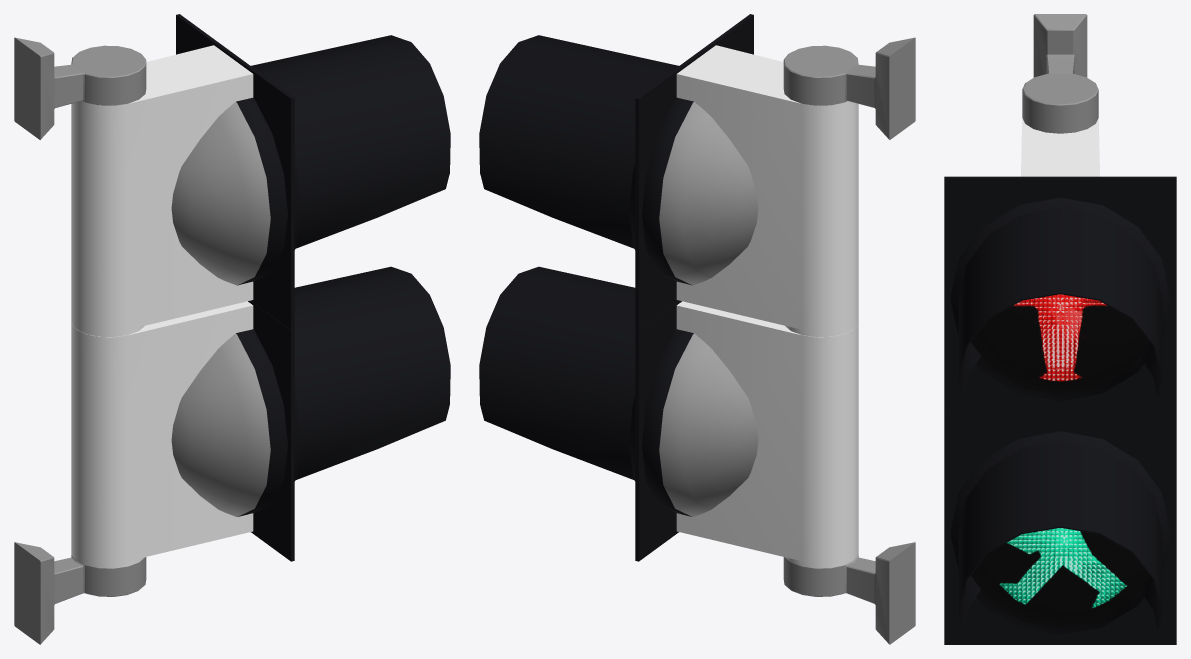
File: Fussgaengerampel_rot_gruen_Mast.glb
3 renders of one model, left to right at view 1: azimuth 30°, elevation 25°; view 2: azimuth 150°, elevation 25°; view 3: azimuth 270°, elevation 25°, orthographic.
Parts seen in each view (by area): view 1: Cube.004, Cube.003, Sonnenblende.002, Sonnenblende.001, BezierCurve.018, BezierCurve.020, Masthalterung, Blende.002, Masthalterung.001, Blende.001; view 2: Cube.004, Cube.003, Sonnenblende.002, Sonnenblende.001, BezierCurve.018, BezierCurve.020, Masthalterung, Blende.002, Masthalterung.001, Blende.001; view 3: Blende.002, Blende.001, Sonnenblende.001, Sonnenblende.002, BezierCurve.018, BezierCurve.020, Masthalterung, Cube.004.
Part boxes in pixels (x1,y1,x2,y2): Cube.004: (71,45,253,337); Cube.003: (71,301,253,568); Sonnenblende.002: (251,35,450,248); Sonnenblende.001: (294,266,450,479); BezierCurve.018: (171,329,300,516); BezierCurve.020: (171,97,300,285); Masthalterung: (14,37,146,139); Blende.002: (176,14,294,329); Masthalterung.001: (14,542,146,644); Blende.001: (248,300,294,561); Cube.004: (676,45,858,337); Cube.003: (676,301,858,568); Sonnenblende.002: (479,35,678,248); Sonnenblende.001: (479,266,635,479); BezierCurve.018: (629,329,758,516); BezierCurve.020: (629,97,758,285); Masthalterung: (783,37,915,139); Blende.002: (635,14,753,329); Masthalterung.001: (783,542,915,644); Blende.001: (635,300,681,561); Blende.002: (944,176,1176,411); Blende.001: (944,411,1176,644); Sonnenblende.001: (958,441,1162,628); Sonnenblende.002: (958,207,1162,394); BezierCurve.018: (950,431,1170,634); BezierCurve.020: (950,197,1170,400); Masthalterung: (1022,14,1098,133); Cube.004: (1021,118,1099,176).
Size of the model in its own units: 0.4823 by 0.7067 by 0.2502.
Materials: 5 (4 with a texture image).
